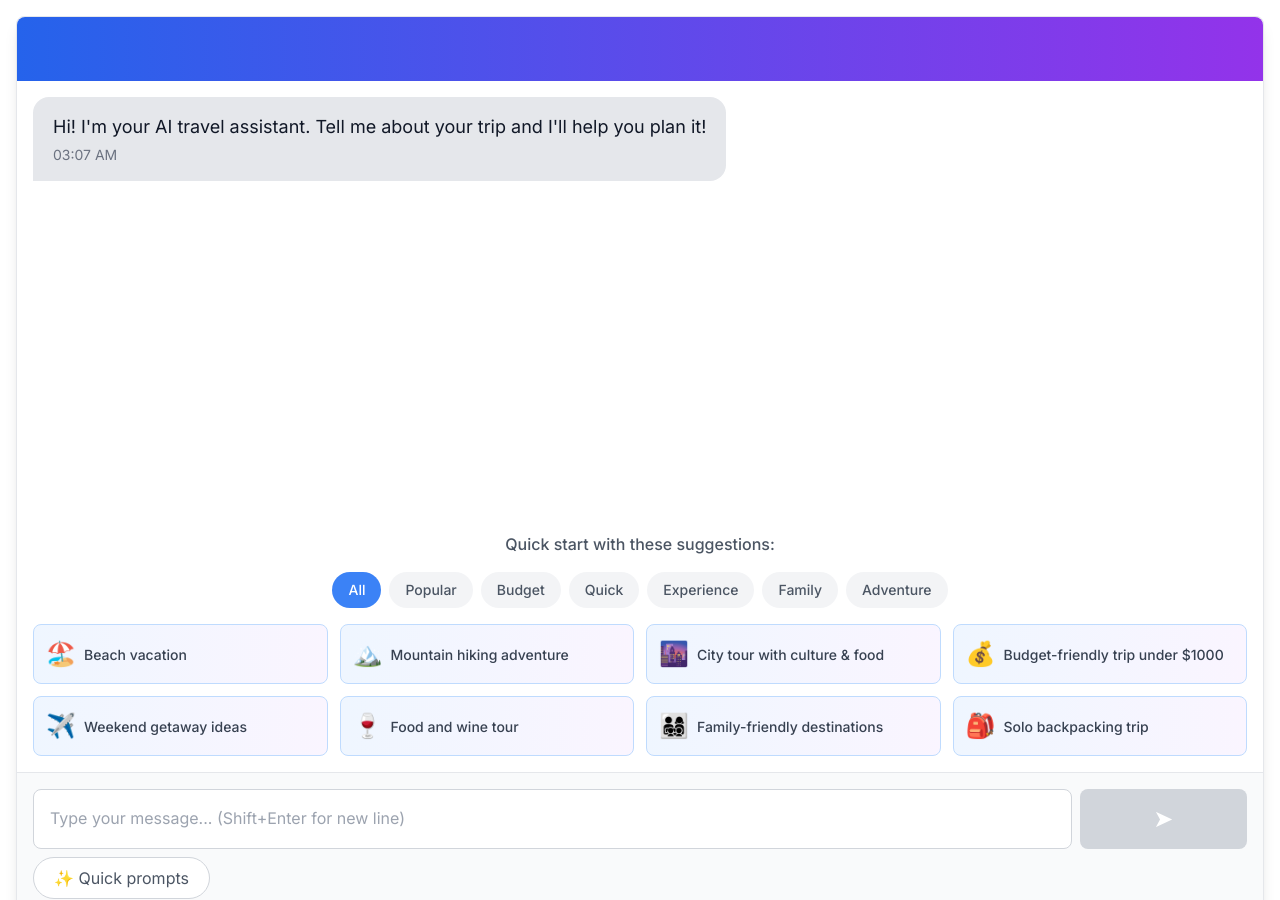
Test case: ChatInterface › Quick Prompts › filters prompts when category is selected
This screenshot has width=1280, height=900.
// Click Budget category
Click the button "Budget". click: (521, 590)
box: [481,572,561,608]
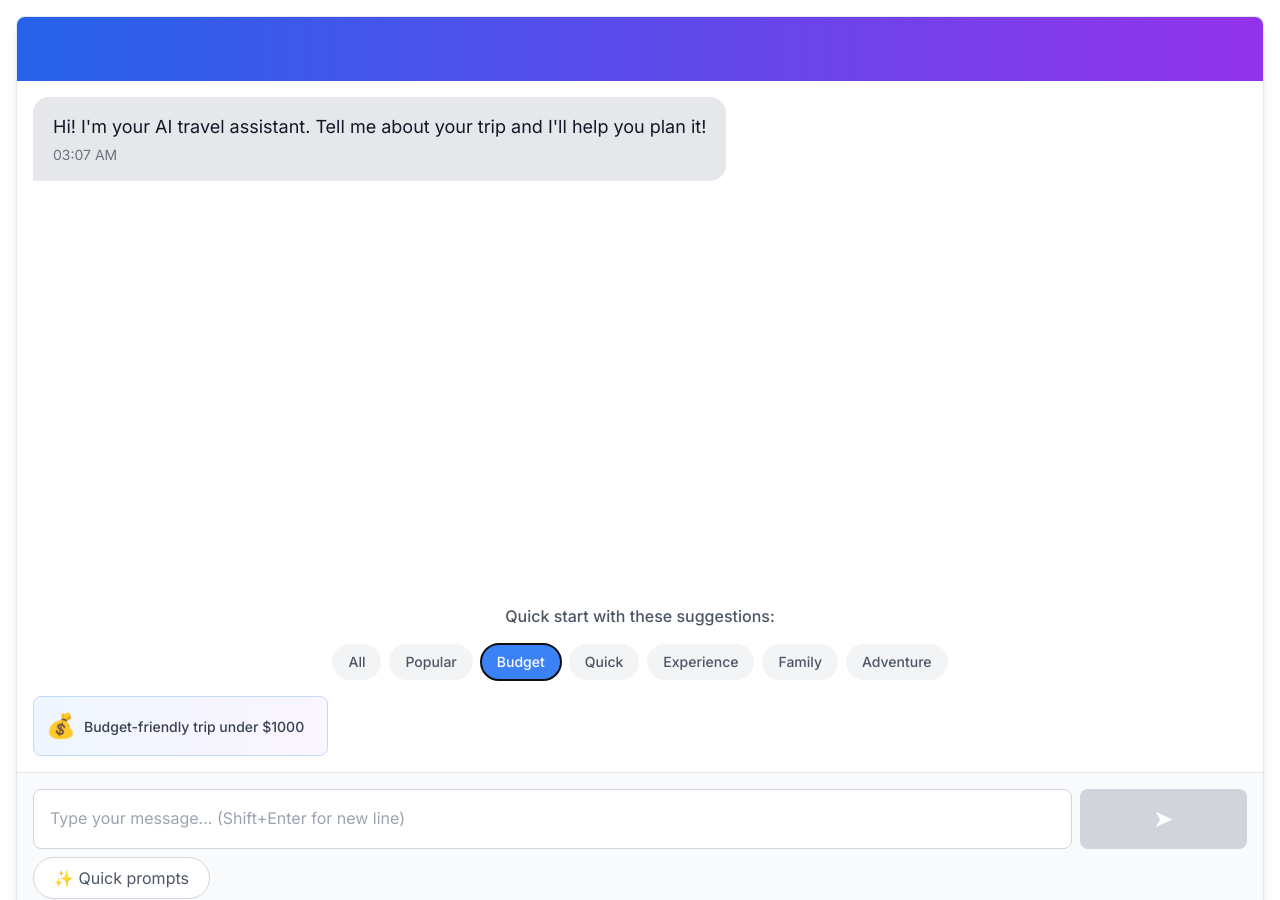
Expected: the text "Budget-friendly trip under $1000" is shown, [84,718,304,735]
